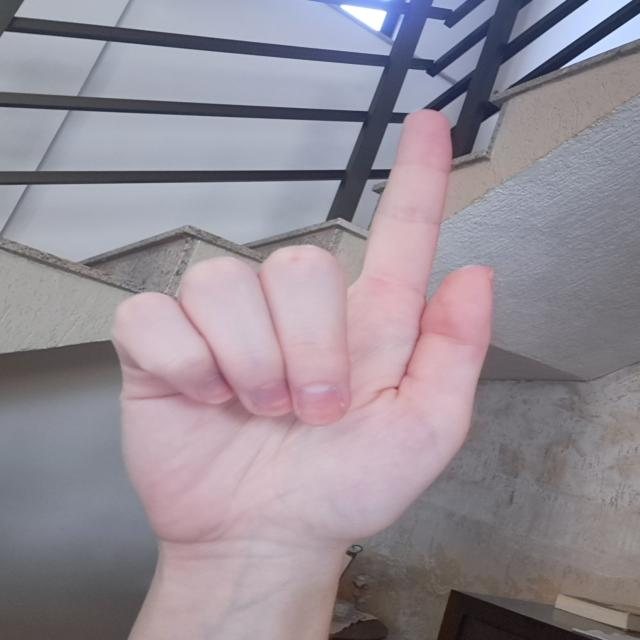G: (79, 104, 518, 557)
